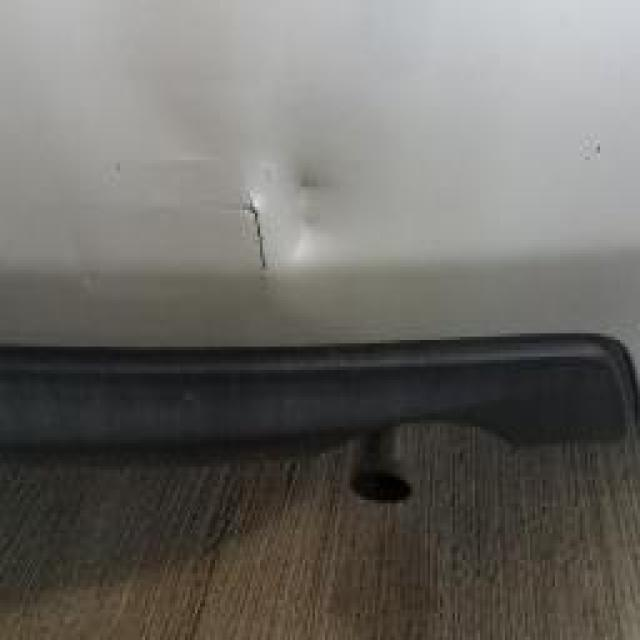Bumper: (160, 133, 390, 327)
